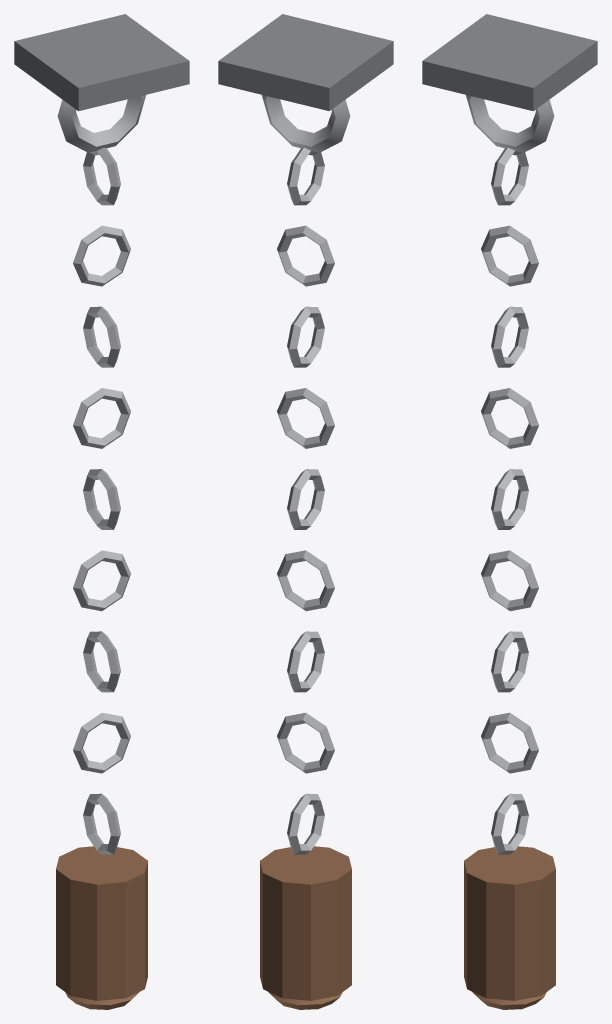
The model's file is Dress_ChainHang.fbx.
The picture shows the model from 3 angles, left to right: view 1: azimuth 30°, elevation 25°; view 2: azimuth 150°, elevation 25°; view 3: azimuth 330°, elevation 25°; orthographic projection.
Parts seen in each view (by area): view 1: Dress_ChainHang; view 2: Dress_ChainHang; view 3: Dress_ChainHang.
Boxes of the visible parts, box(x1,y1,x2,y2) form: Dress_ChainHang: box(14, 14, 189, 1009); Dress_ChainHang: box(218, 14, 393, 1009); Dress_ChainHang: box(422, 14, 597, 1009).
Size of the model in its own units: 12 by 97.7 by 12.
